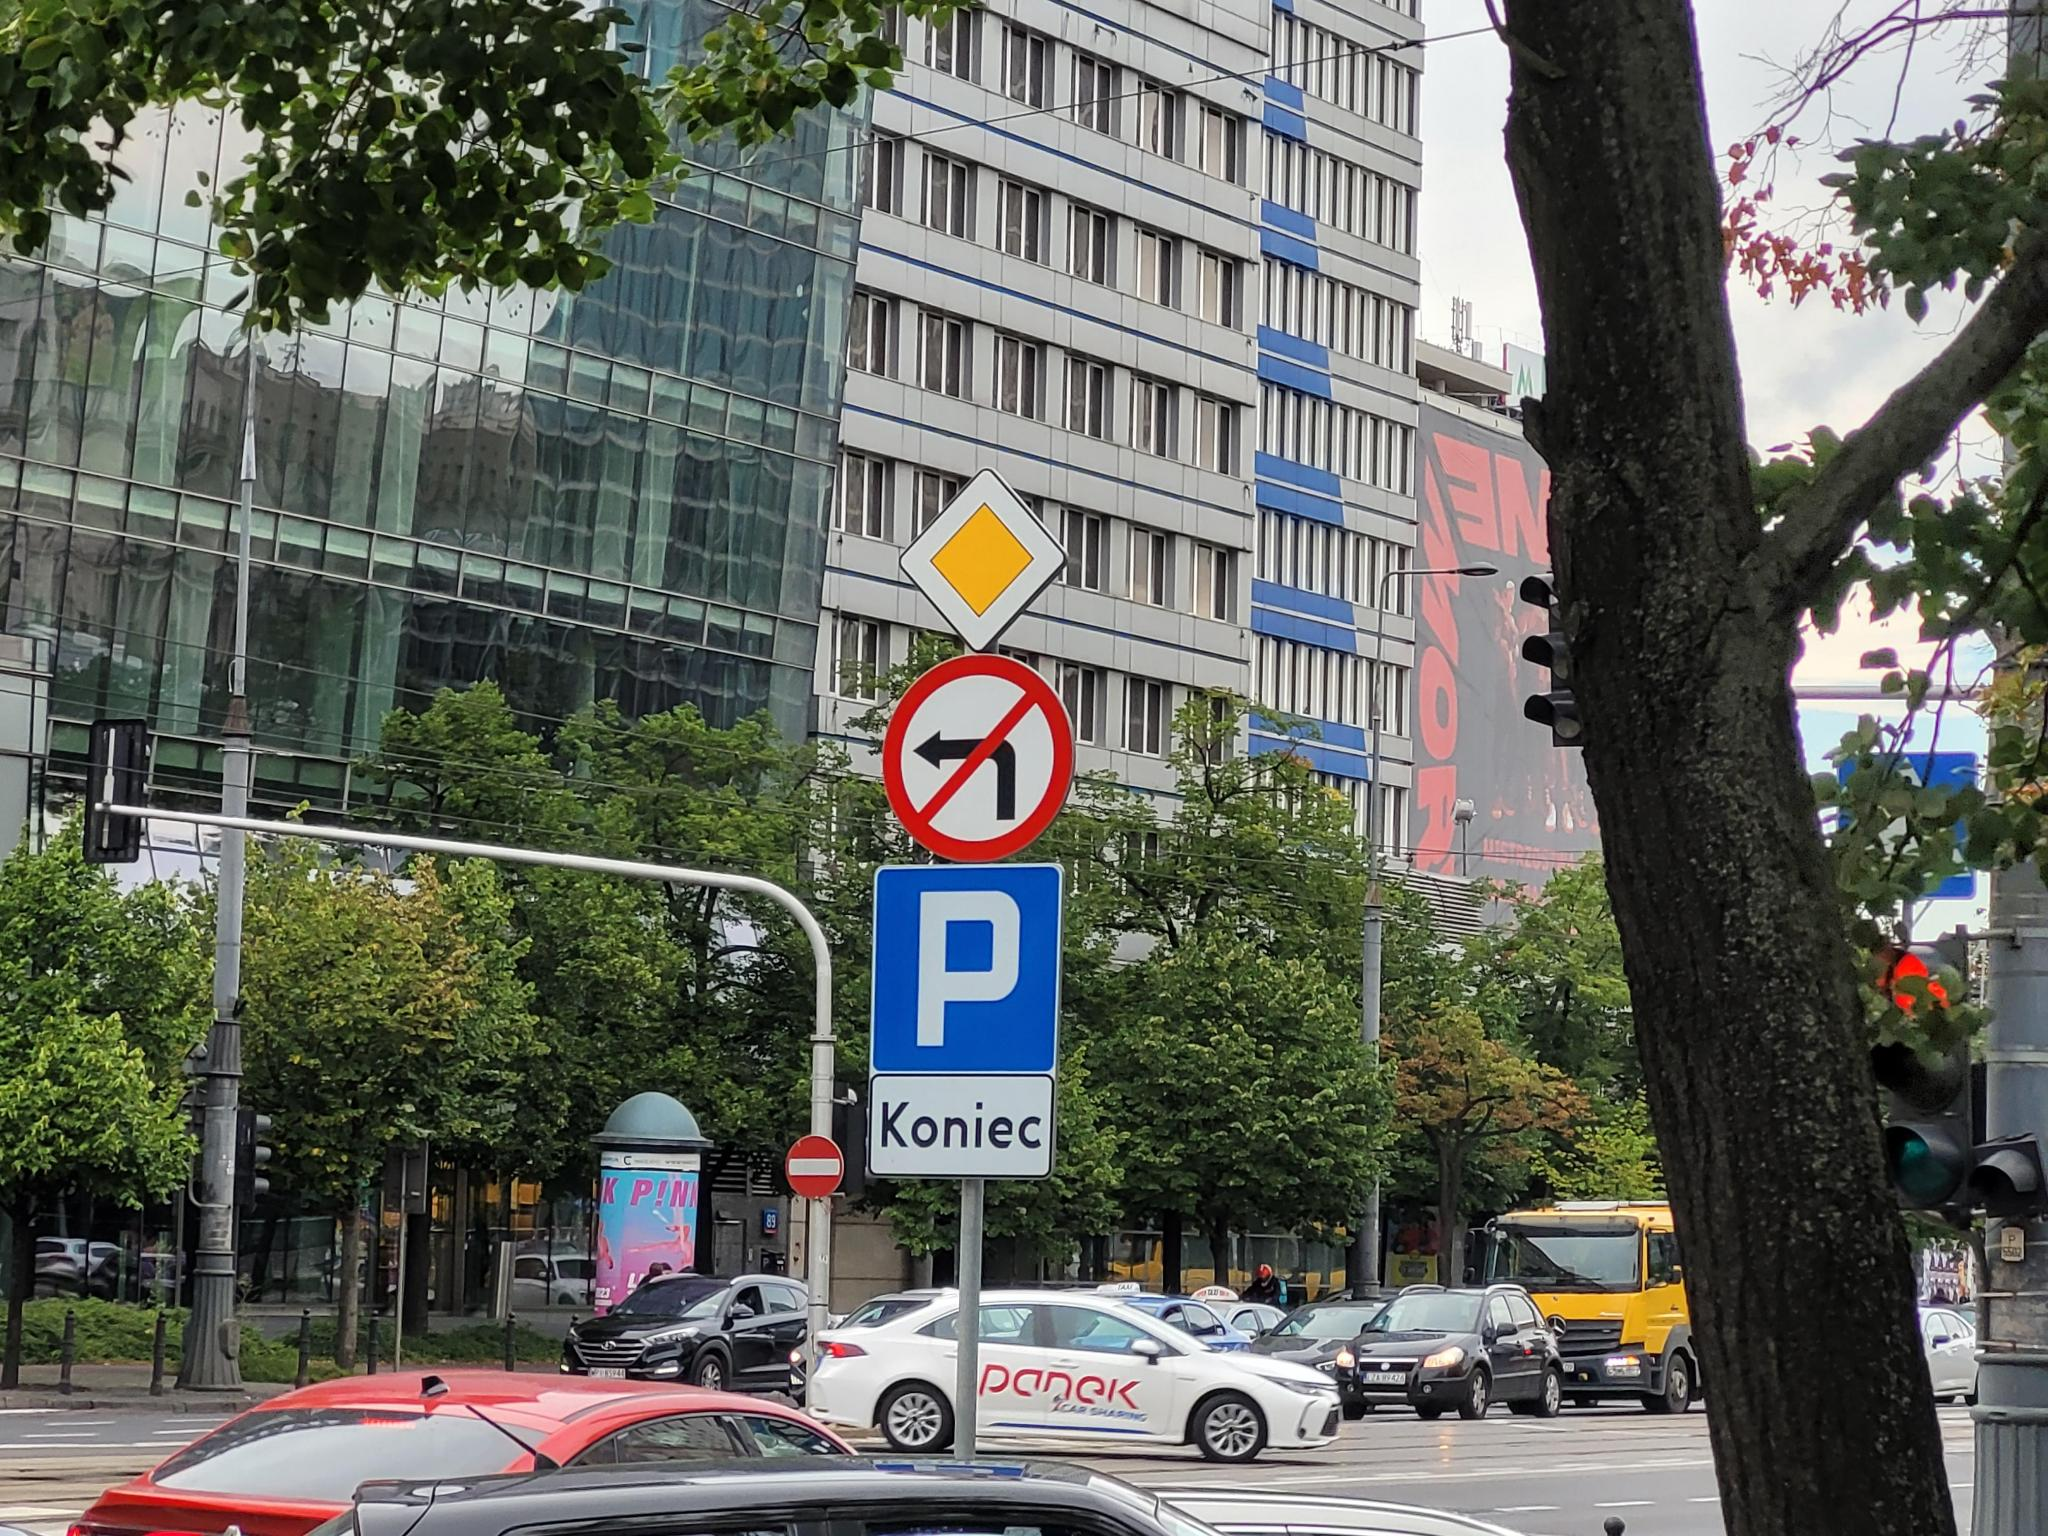information: (869, 870, 1063, 1078), (897, 470, 1069, 650), (1837, 749, 1977, 897)
other: (869, 1079, 1053, 1181)
prohibitory: (882, 650, 1077, 865), (782, 1133, 845, 1200)
